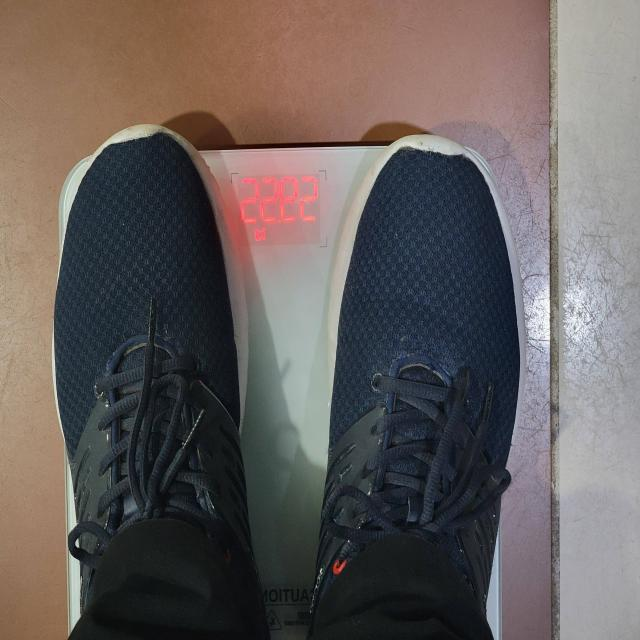ws: (206, 150, 359, 394)
